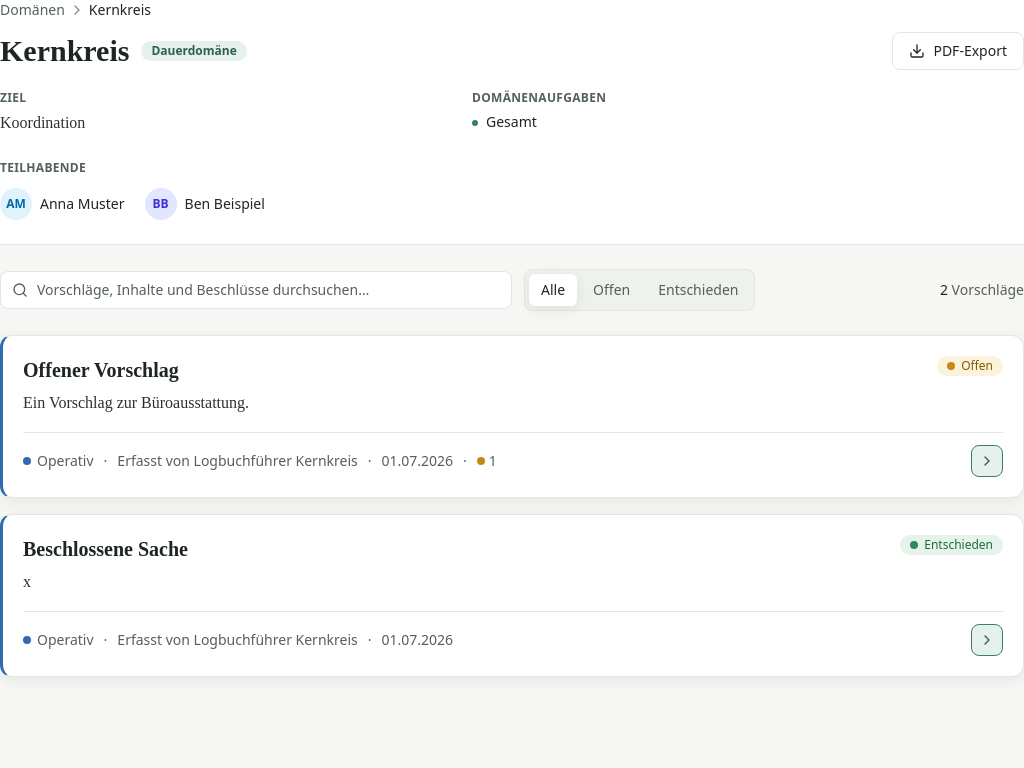
DomaenenLog › Klick auf die Vorschlagskarte öffnet das Detail-Modal
Click the heading "Offener Vorschlag" at [101, 370], box [23,356,179,384]
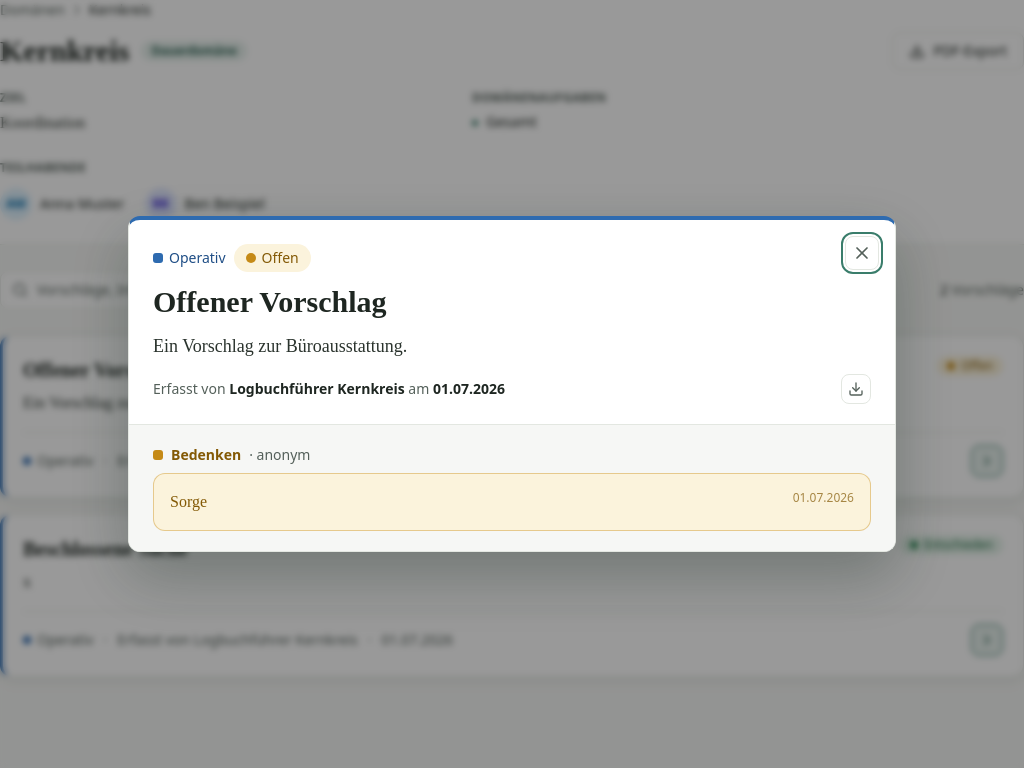
Expected: the dialog is shown, [128,216,896,552]
